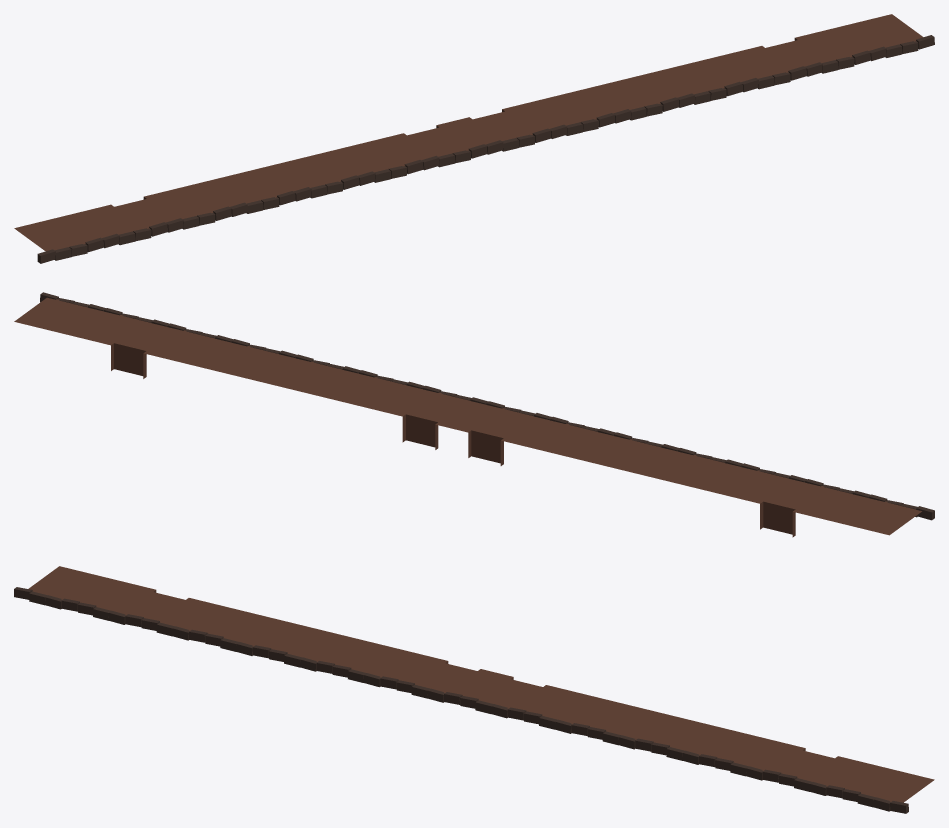
The model's file is Empty_Torben_Sidewalk.fbx.
The picture shows the model from 3 angles, top to bottom: view 1: azimuth 30°, elevation 25°; view 2: azimuth 150°, elevation 25°; view 3: azimuth 330°, elevation 25°; orthographic projection.
Parts seen in each view (by area): view 1: geo_Sidewalk3, geo_Sidewalk_Edge_Brick108; view 2: geo_Sidewalk3, geo_Sidewalk_Edge_Brick108; view 3: geo_Sidewalk3, geo_Sidewalk_Edge_Brick108.
Part boxes in pixels (x1=…): geo_Sidewalk3: x1=14, y1=14, x2=923, y2=251; geo_Sidewalk_Edge_Brick108: x1=37, y1=35, x2=934, y2=263; geo_Sidewalk3: x1=14, y1=297, x2=921, y2=537; geo_Sidewalk_Edge_Brick108: x1=40, y1=292, x2=934, y2=520; geo_Sidewalk3: x1=28, y1=566, x2=934, y2=802; geo_Sidewalk_Edge_Brick108: x1=14, y1=587, x2=908, y2=813.
Size of the model in its own units: 25.3 by 0.75 by 1.77.
